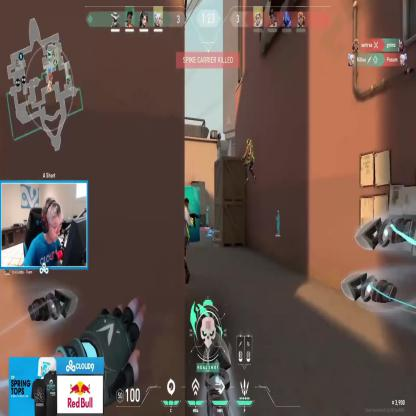enemy: (177, 196, 196, 285), (240, 138, 257, 186)
enemy_head: (184, 197, 190, 209), (246, 139, 252, 149)
